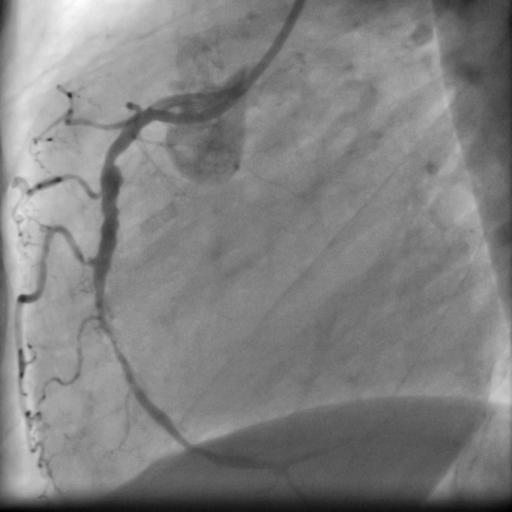Stenosis: (99, 148, 121, 170)
